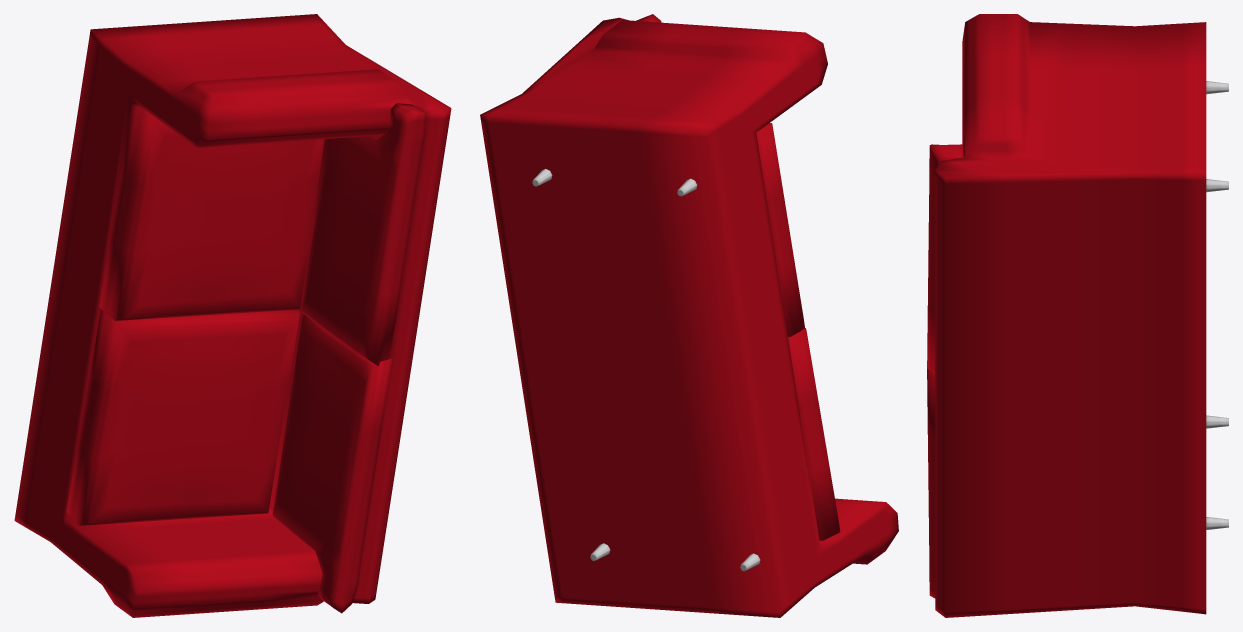
File: IKEA_sofa_EKTORP.obj
3 views of the same model, side by side, from view 1: azimuth 30°, elevation 25°; view 2: azimuth 150°, elevation 25°; view 3: azimuth 270°, elevation 25° (orthographic).
Visible parts, largest first — view 1: IKEA_sofa_EKTORP; view 2: IKEA_sofa_EKTORP; view 3: IKEA_sofa_EKTORP.
Boxes of the visible parts, <box> form: IKEA_sofa_EKTORP: <box>14,14,451,617</box>; IKEA_sofa_EKTORP: <box>480,14,898,617</box>; IKEA_sofa_EKTORP: <box>927,14,1228,617</box>.
Bounding box in the file's own units: 1.13 × 1.88 × 0.951.
